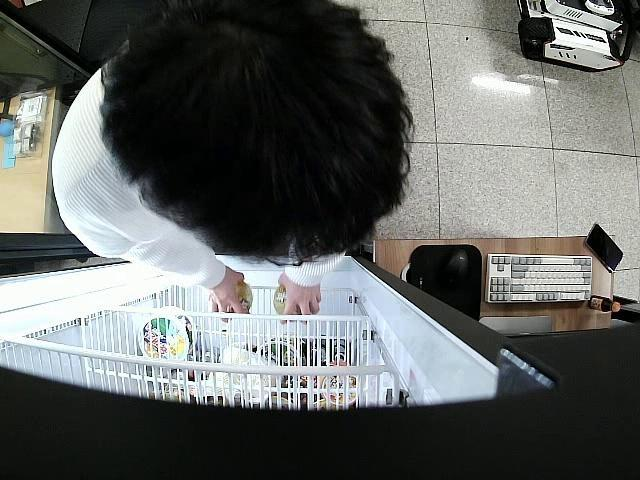04_chapagetti_S: (220, 278, 256, 316), (270, 280, 306, 316)
